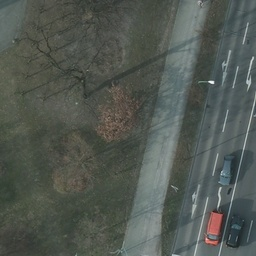car: (203, 210, 223, 246), (218, 153, 237, 187), (227, 217, 244, 248)
